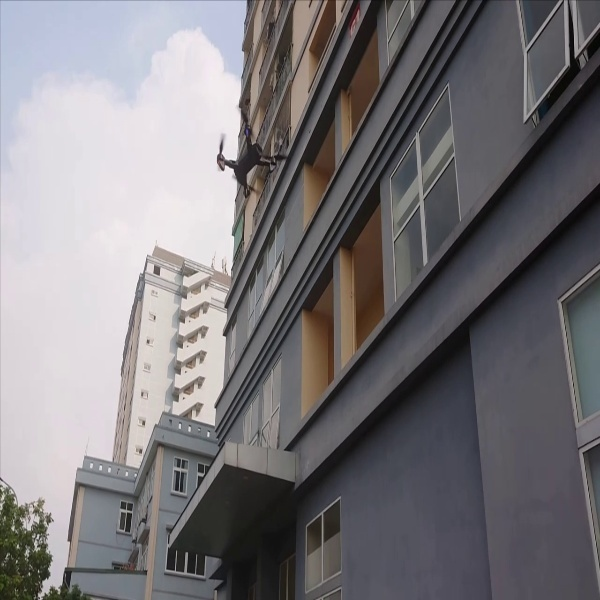drone: (214, 101, 289, 202)
